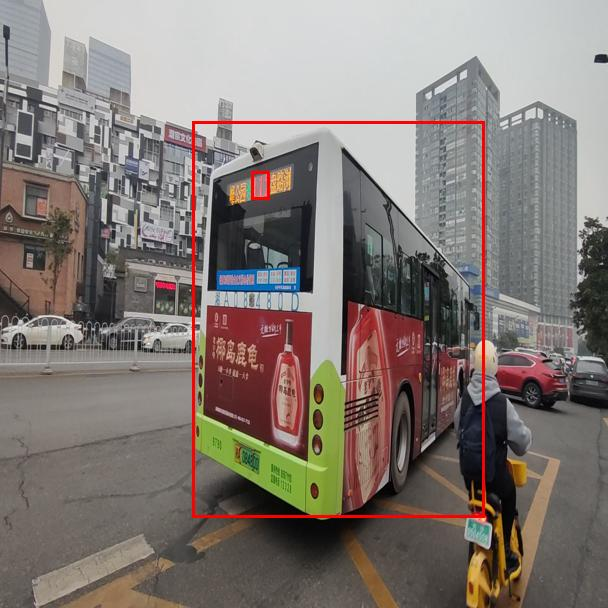bus: (192, 121, 484, 517)
screen: (251, 171, 269, 199)
